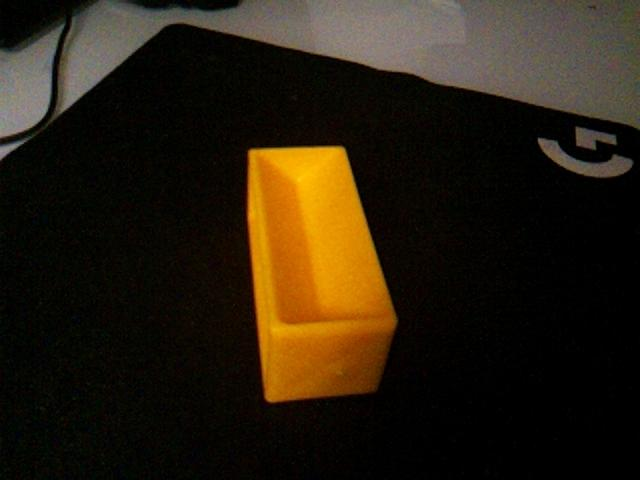yellow: (245, 144, 400, 404)
